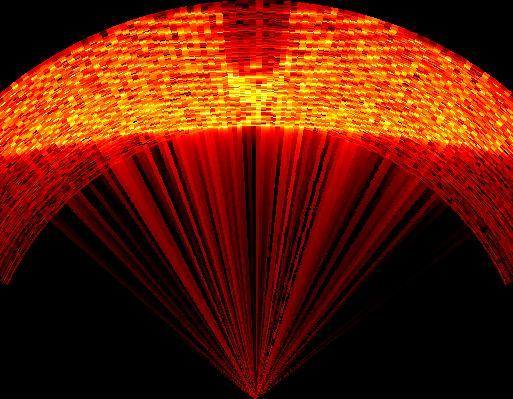box_crate: (222, 6, 292, 76)
